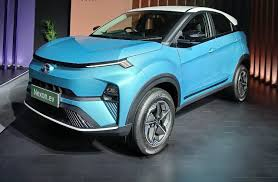Tata Nexon: (23, 4, 252, 158)
